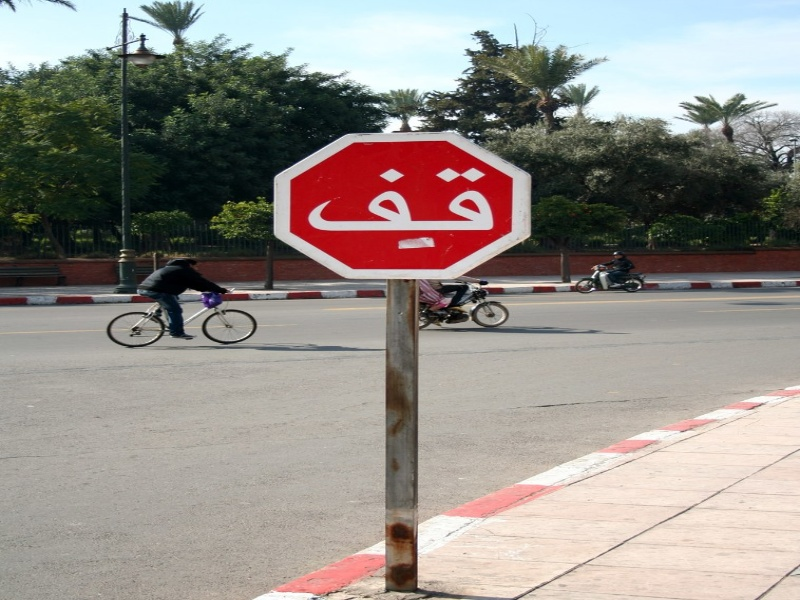stop: (269, 127, 537, 286)
